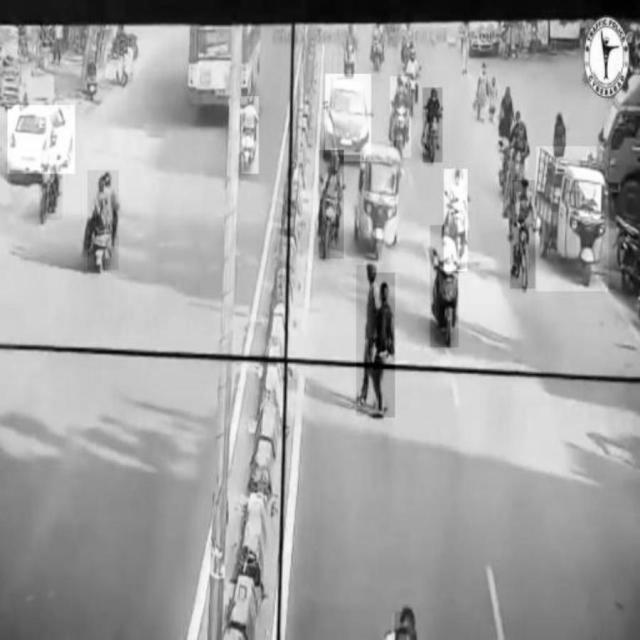person: (373, 273, 395, 417), (356, 265, 372, 416)
vehicle: (537, 147, 609, 291), (357, 139, 402, 263), (8, 105, 75, 173), (326, 74, 372, 162), (430, 225, 458, 347), (88, 170, 118, 270), (510, 181, 535, 289), (319, 150, 344, 258), (444, 169, 468, 271), (39, 130, 63, 220), (390, 76, 410, 157), (423, 88, 443, 162), (242, 97, 259, 174)
